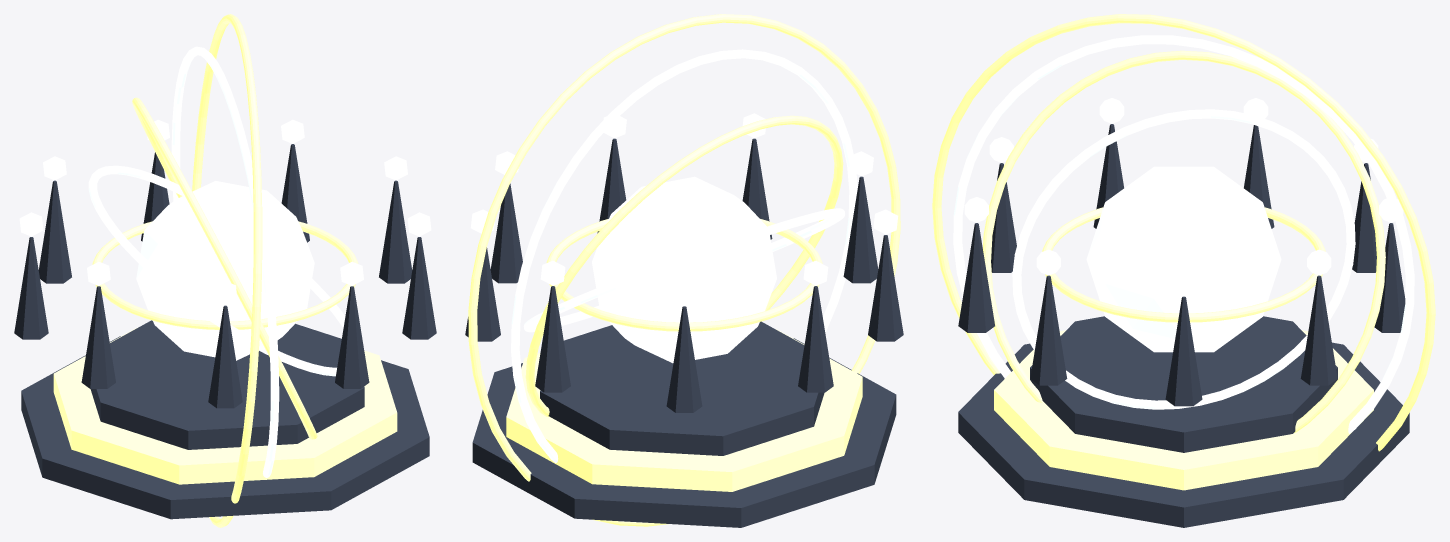
The model's file is gpu-blender-v20.glb.
The picture shows the model from 3 angles, left to right: view 1: azimuth 30°, elevation 25°; view 2: azimuth 150°, elevation 25°; view 3: azimuth 270°, elevation 25°; orthographic projection. The views are drawn at different scales.
Visible parts, largest first — view 1: Cylinder.002, Cylinder, SovereignCore_1nc0gn30, Cylinder.001, Torus.004, Torus.003, Torus.001, Torus.002, Torus, Cone.006, Cone.004, Cone.008 (+6 smaller); view 2: Cylinder.002, SovereignCore_1nc0gn30, Cylinder, Cylinder.001, Torus.004, Torus.003, Torus.002, Torus.001, Torus, Cone.005, Cone.002, Cone.004 (+6 smaller); view 3: SovereignCore_1nc0gn30, Cylinder.002, Cylinder, Cylinder.001, Torus.004, Torus.003, Torus.002, Torus.001, Torus, Cone, Cone.001, Cone.008 (+6 smaller).
Boxes of the visible parts, left/top/right/bottom form: Cylinder.002: left=90, top=320, right=364, bottom=449; Cylinder: left=21, top=336, right=429, bottom=519; SovereignCore_1nc0gn30: left=136, top=181, right=314, bottom=360; Cylinder.001: left=53, top=327, right=397, bottom=484; Torus.004: left=192, top=14, right=262, bottom=527; Torus.003: left=171, top=46, right=279, bottom=479; Torus.001: left=88, top=165, right=345, bottom=376; Torus.002: left=132, top=97, right=317, bottom=439; Torus: left=92, top=221, right=358, bottom=329; Cone.006: left=208, top=305, right=242, bottom=408; Cone.004: left=14, top=237, right=48, bottom=339; Cone.008: left=402, top=237, right=436, bottom=339; Cylinder.002: left=540, top=321, right=824, bottom=455; SovereignCore_1nc0gn30: left=592, top=176, right=776, bottom=363; Cylinder: left=472, top=338, right=896, bottom=527; Cylinder.001: left=506, top=329, right=862, bottom=491; Torus.004: left=468, top=14, right=900, bottom=526; Torus.003: left=511, top=49, right=857, bottom=462; Torus.002: left=525, top=115, right=843, bottom=416; Torus.001: left=523, top=208, right=844, bottom=332; Torus: left=546, top=219, right=822, bottom=331; Cone.005: left=868, top=235, right=903, bottom=341; Cone.002: left=535, top=286, right=570, bottom=392; Cone.004: left=798, top=286, right=833, bottom=392; SovereignCore_1nc0gn30: left=1086, top=166, right=1281, bottom=352; Cylinder.002: left=1030, top=316, right=1337, bottom=452; Cylinder: left=958, top=342, right=1409, bottom=527; Cylinder.001: left=994, top=330, right=1373, bottom=490; Torus.004: left=932, top=14, right=1435, bottom=451; Torus.003: left=953, top=35, right=1414, bottom=433; Torus.002: left=983, top=50, right=1385, bottom=432; Torus.001: left=1012, top=109, right=1355, bottom=409; Torus: left=1042, top=207, right=1325, bottom=322; Cone: left=1165, top=296, right=1202, bottom=406; Cone.001: left=1300, top=275, right=1337, bottom=385; Cone.008: left=1030, top=275, right=1067, bottom=385.
Bounding box in the file's own units: 4.41 × 5.33 × 4.9.
